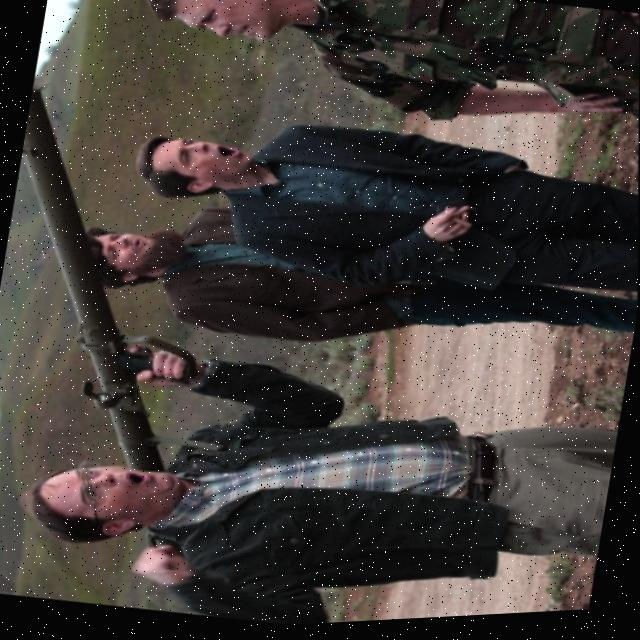rocket: (0, 63, 227, 490)
